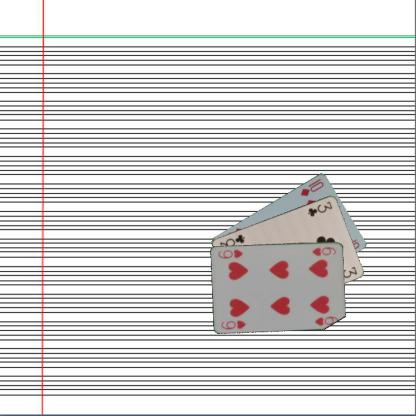10d: (298, 175, 325, 197)
3c: (305, 199, 333, 218)
6h: (219, 317, 248, 331), (310, 244, 337, 257)
